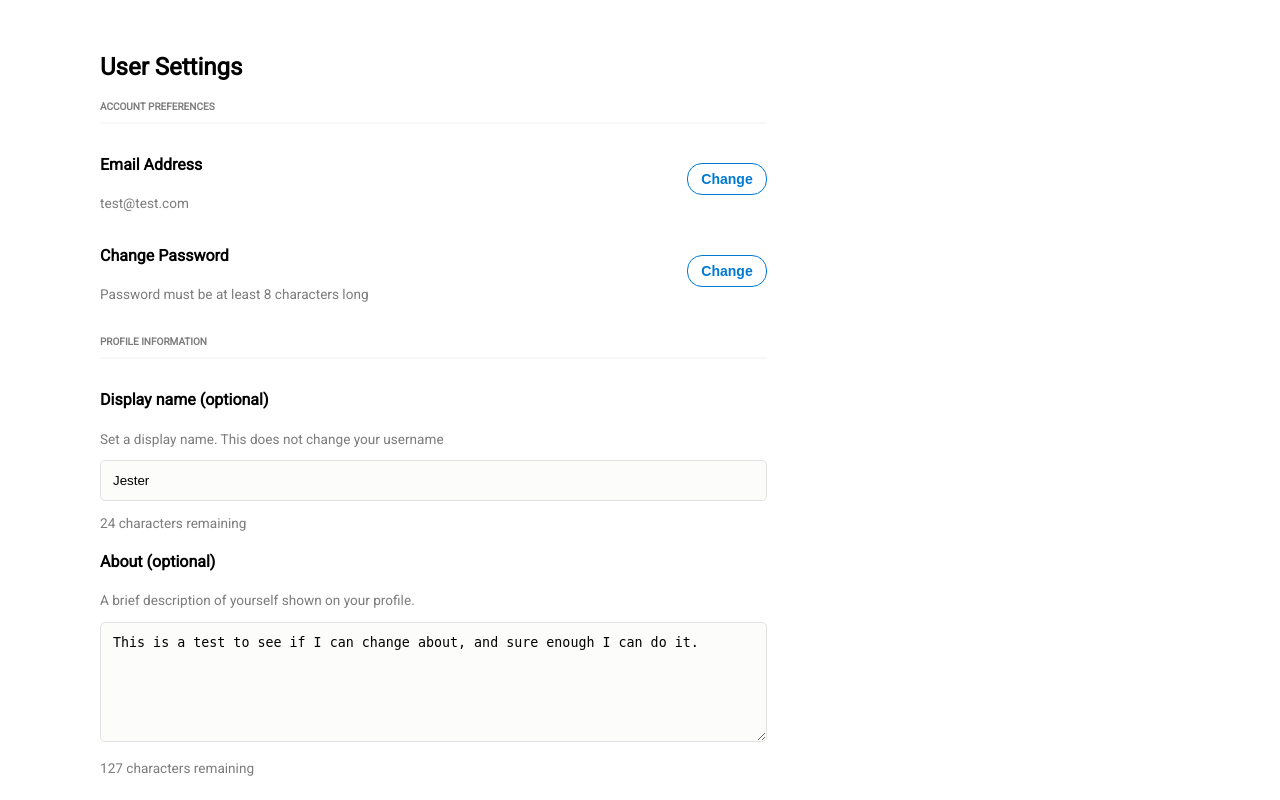
Test: Settings › Authenticated user can change their email › ChangeEmailForm renders on change email
The image size is (1280, 800).
Click the button with test id "change-email-btn". click: (727, 179)
box: [687, 163, 767, 195]
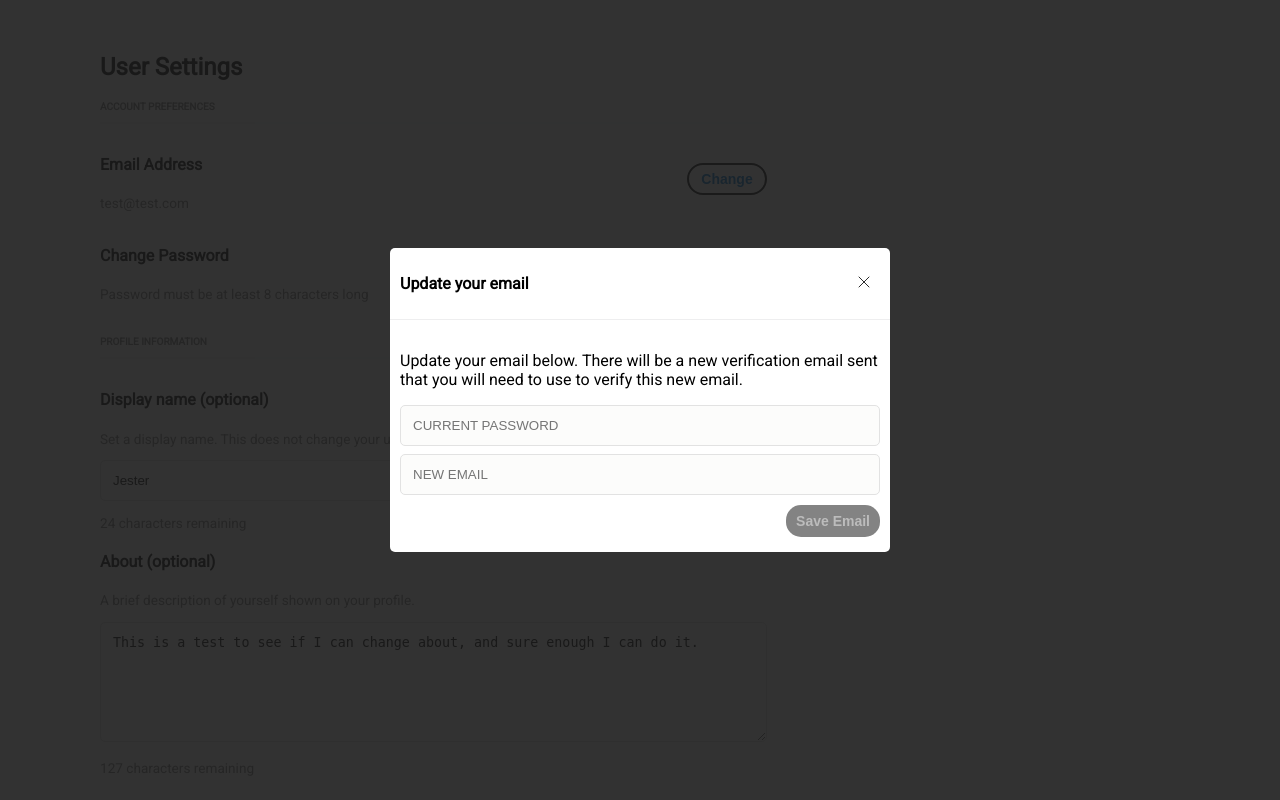
Check: the heading "Update your email" is shown, box [400, 274, 529, 293]
Check: the password field with placeholder "CURRENT PASSWORD" is shown, box [400, 405, 880, 446]
Check: the field with placeholder "NEW EMAIL" is shown, box [400, 454, 880, 495]
